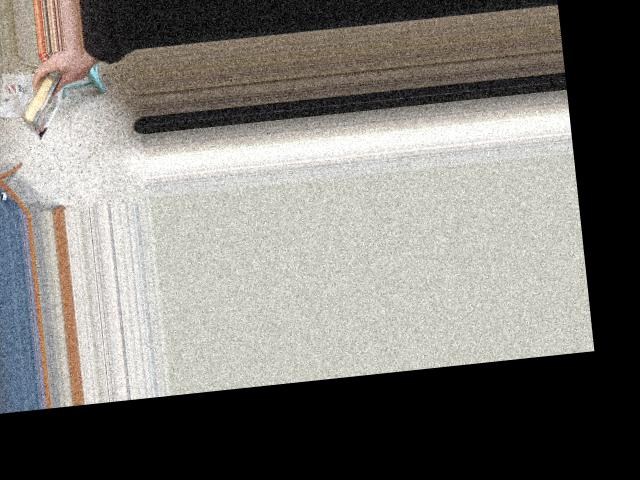cheese: (13, 54, 74, 141)
